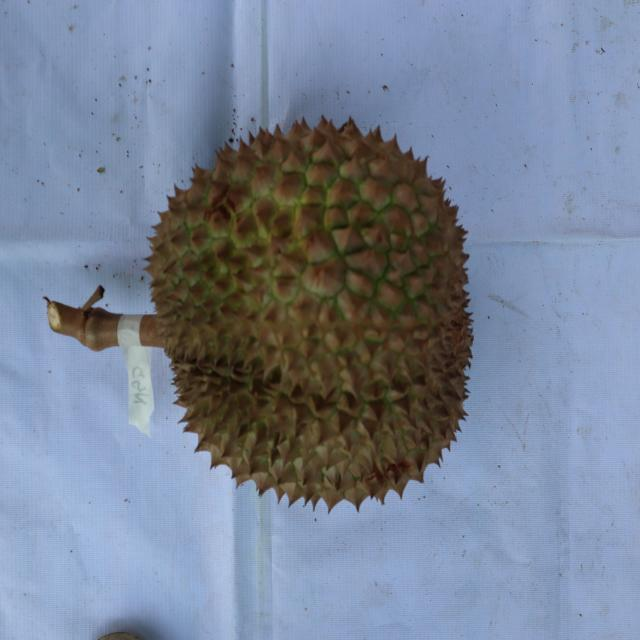mature: (148, 114, 476, 520)
